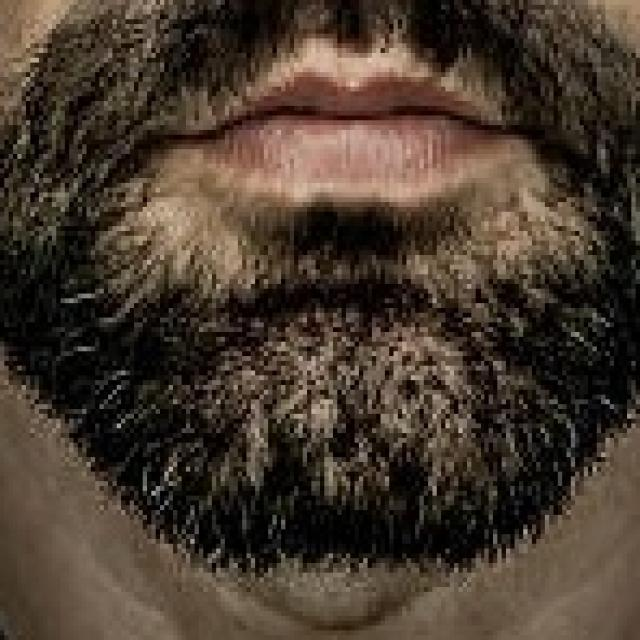closed-mouth: (179, 58, 514, 188)
